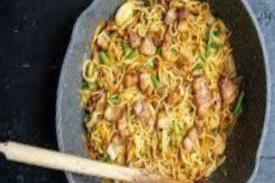pancit bihon: (86, 0, 237, 176)
